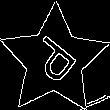P_SE: (24, 30, 84, 90)
